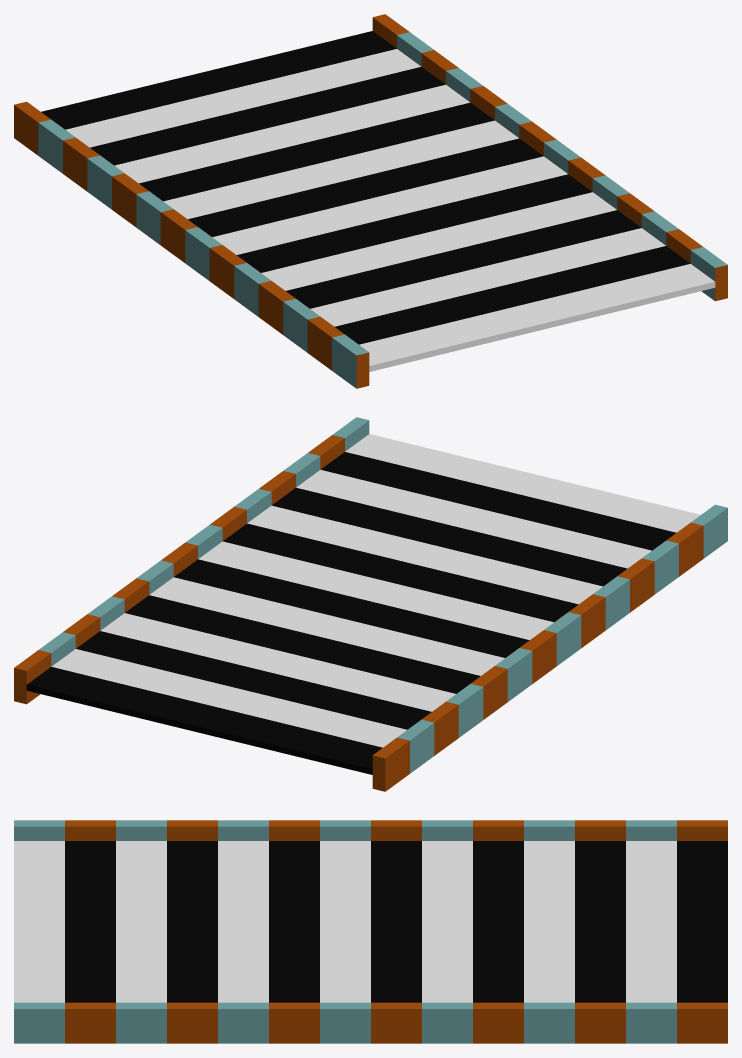
File: Road.fbx
The picture shows the model from 3 angles, top to bottom: view 1: azimuth 30°, elevation 25°; view 2: azimuth 150°, elevation 25°; view 3: azimuth 270°, elevation 25°; orthographic projection. The views are drawn at different scales.
Parts seen in each view (by area): view 1: pCube1; view 2: pCube1; view 3: pCube1.
Boxes of the visible parts, x1,y1,x2,y2 form: pCube1: (14, 14, 727, 388); pCube1: (14, 417, 727, 791); pCube1: (14, 820, 727, 1043).
Bounding box in the file's own units: 323 × 27.75 × 516.
